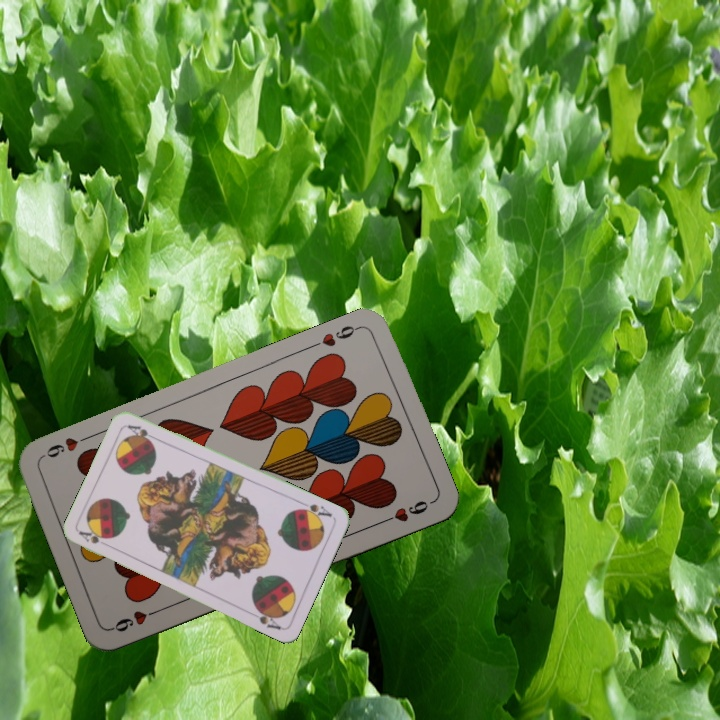H9: (108, 604, 165, 635), (308, 321, 364, 350)
SA: (294, 498, 335, 522), (75, 527, 114, 550)
